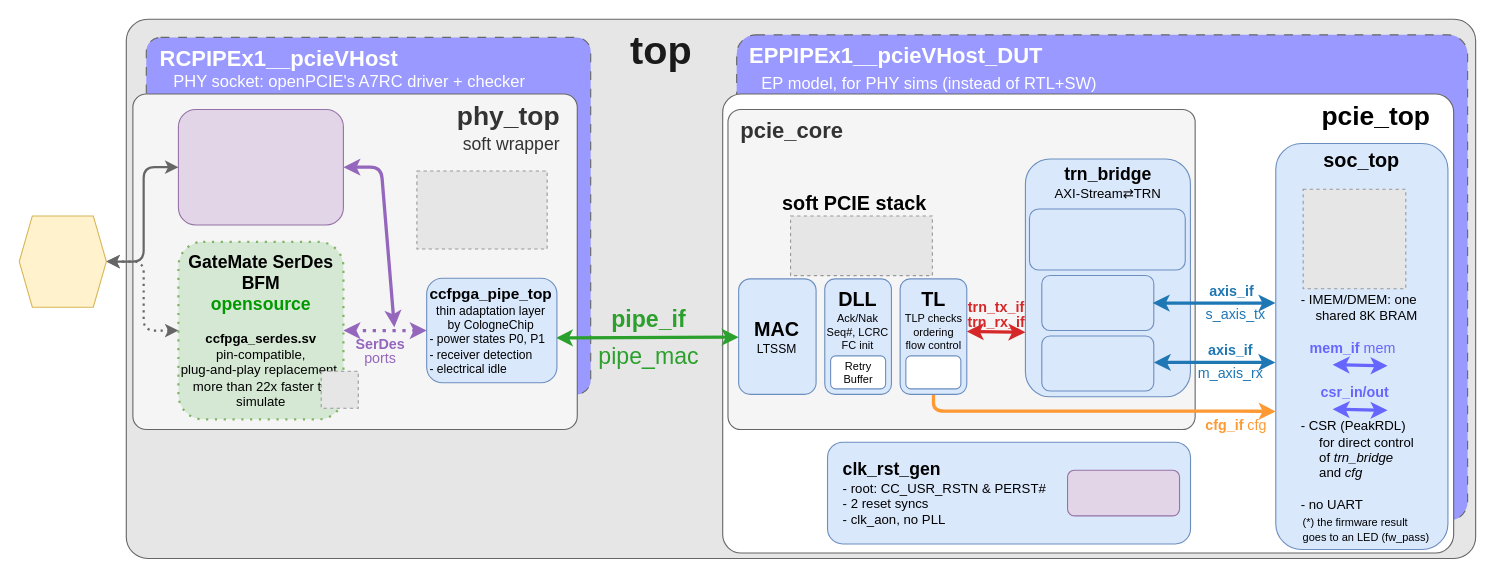
Image size: 1495x579. Some labels were removed from this diagram. Grey dashed boxes stand in for pictures. The shapes that lost their labels are listed below. From the top down, each one's centre as x and y in pixels, then its label:
At (260,166): "CC_SERDES <GateMate HM> proprietary complete design at RTL level. Closed-source".
At (1106,239): "trn_tx_throttle - Tx rate control - free Tx buffers".
At (62,261): "SerDes pins - TXP/N - RXP/N".
At (1097,302): "trn_tx AXIS-to-TRN".
At (933,372): "Config Space".
At (1097,363): "trn_rx TRN-to-AXIS".
At (1123,492): "CC_BUFG CC_USR_RSTN".
